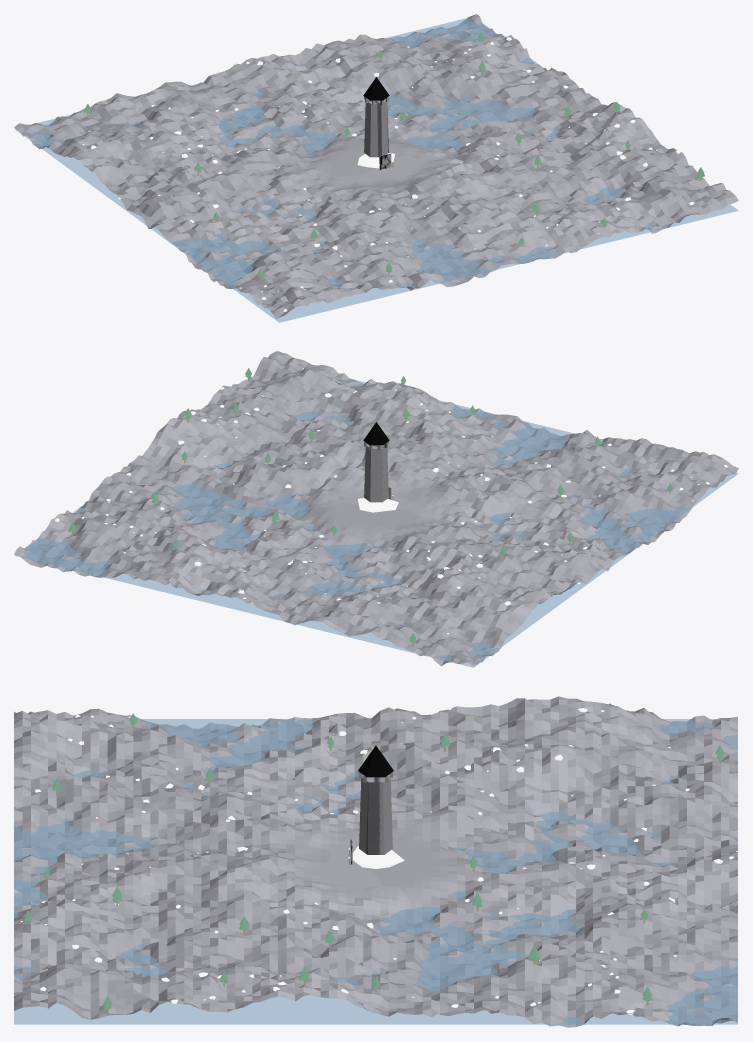
File: map_mountains.glb
3 views of the same model, one above another, from view 1: azimuth 30°, elevation 25°; view 2: azimuth 150°, elevation 25°; view 3: azimuth 270°, elevation 25° (orthographic). The views are drawn at different scales.
Parts seen in each view (by area): view 1: Mountains_Ground, Mountains_Water, Mountains_Watchtower; view 2: Mountains_Ground, Mountains_Water, Mountains_Watchtower; view 3: Mountains_Ground, Mountains_Water, Mountains_Watchtower.
Boxes of the visible parts, x1,y1,x2,y2 form: Mountains_Ground: (14,14,738,318); Mountains_Water: (14,18,738,322); Mountains_Watchtower: (357,77,395,168); Mountains_Ground: (14,351,738,666); Mountains_Water: (14,379,738,667); Mountains_Watchtower: (357,422,398,512); Mountains_Ground: (14,696,738,1027); Mountains_Water: (14,719,737,1024); Mountains_Watchtower: (352,745,404,868).
Bounding box in the file's own units: 128 × 27.45 × 128.
10 materials, 6 textured.
